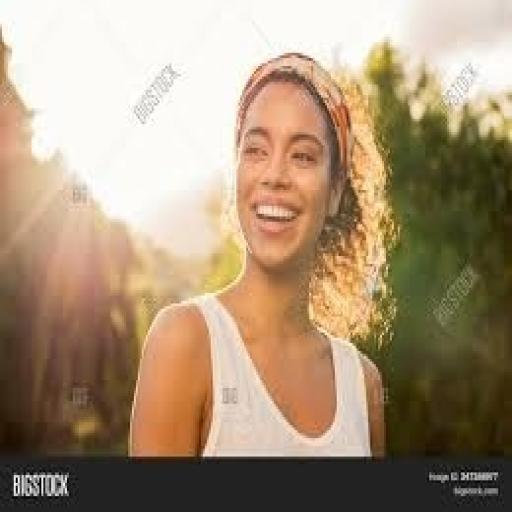laughing: (122, 45, 394, 459)
